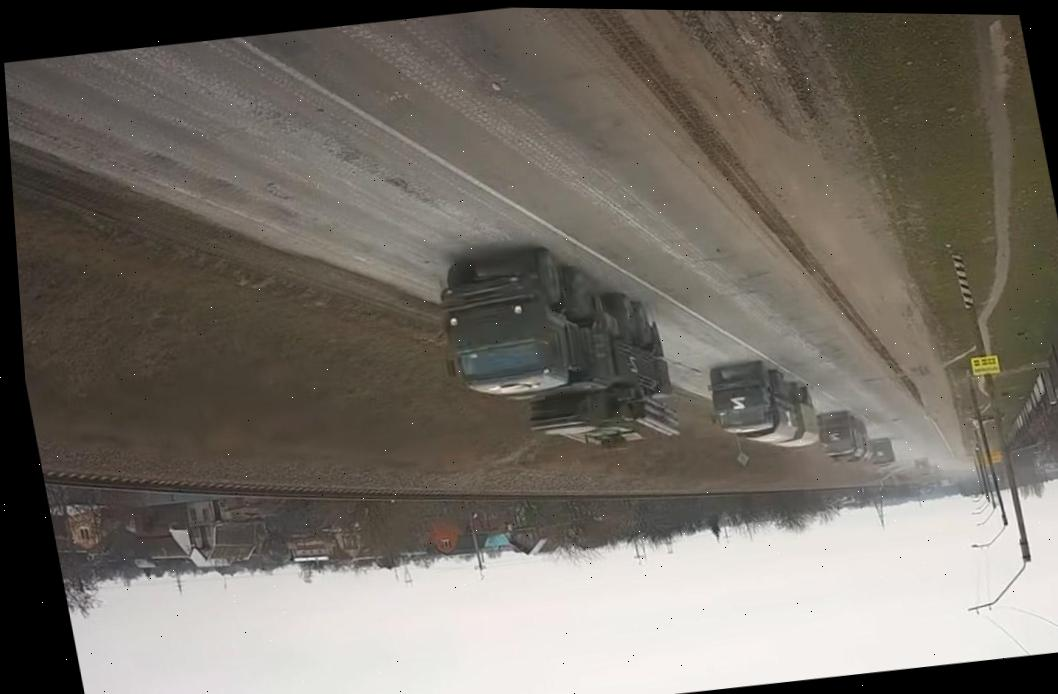truck: (425, 213, 688, 494), (701, 352, 813, 459), (810, 405, 878, 470), (868, 429, 899, 472), (909, 451, 938, 479)
